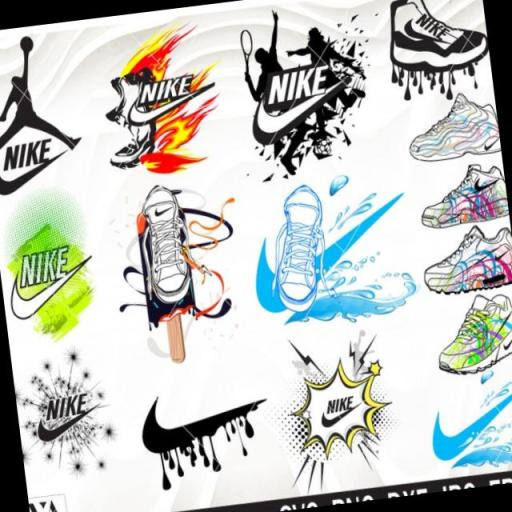Nike: (136, 389, 273, 461), (17, 246, 70, 288)
